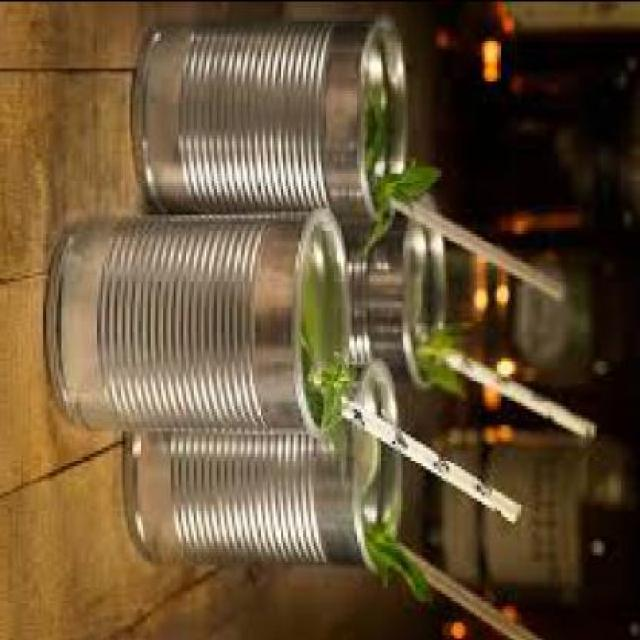METAL: (49, 210, 357, 430), (126, 360, 406, 565), (133, 21, 410, 226), (336, 220, 449, 388)
